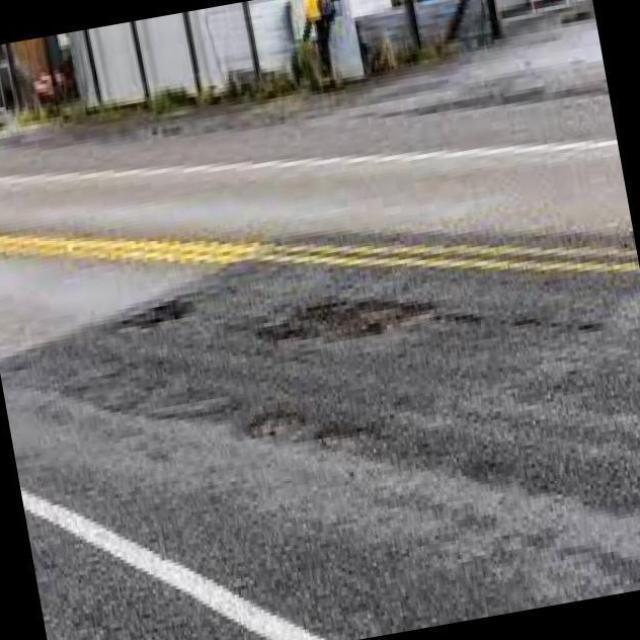Pathole: (266, 276, 473, 352), (116, 297, 185, 325)
